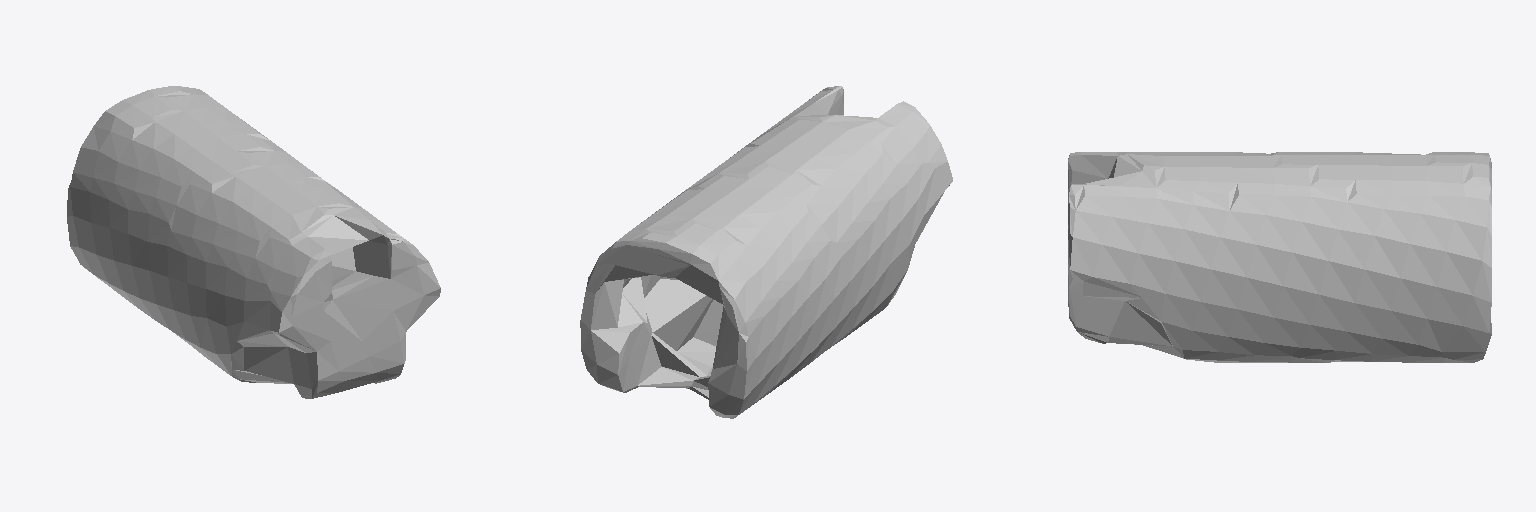
File: sim_ecub_1-0_l_hand_ring_1.obj
3 views of the same model, side by side, from view 1: azimuth 30°, elevation 25°; view 2: azimuth 150°, elevation 25°; view 3: azimuth 270°, elevation 25° (orthographic).
Bounding box in the file's own units: 16.99 × 17.25 × 36.5.